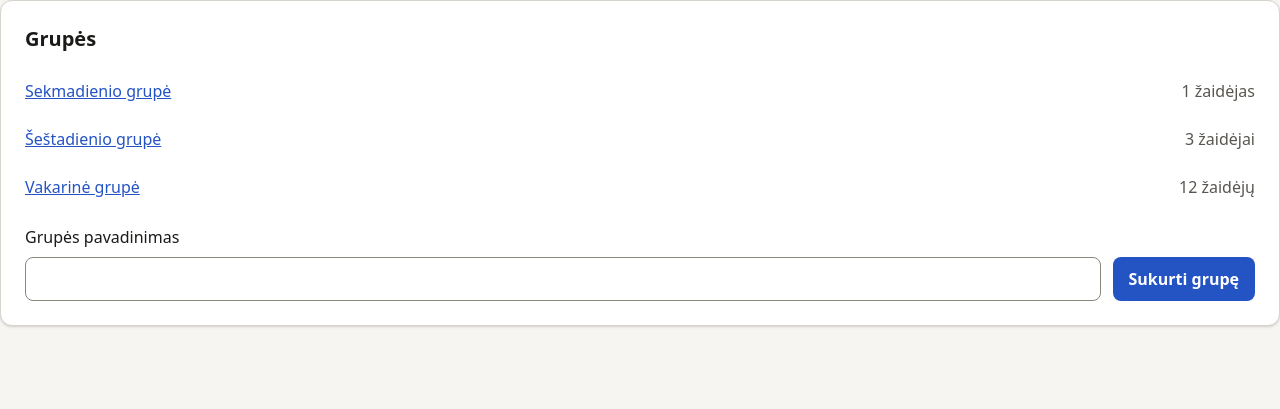
Test: GroupsSection › shows a refusal and keeps the typed name
Step 1. Type "Grupė 11" into the field labelled "Grupės pavadinimas" → (563, 279), box [25,257,1100,301]
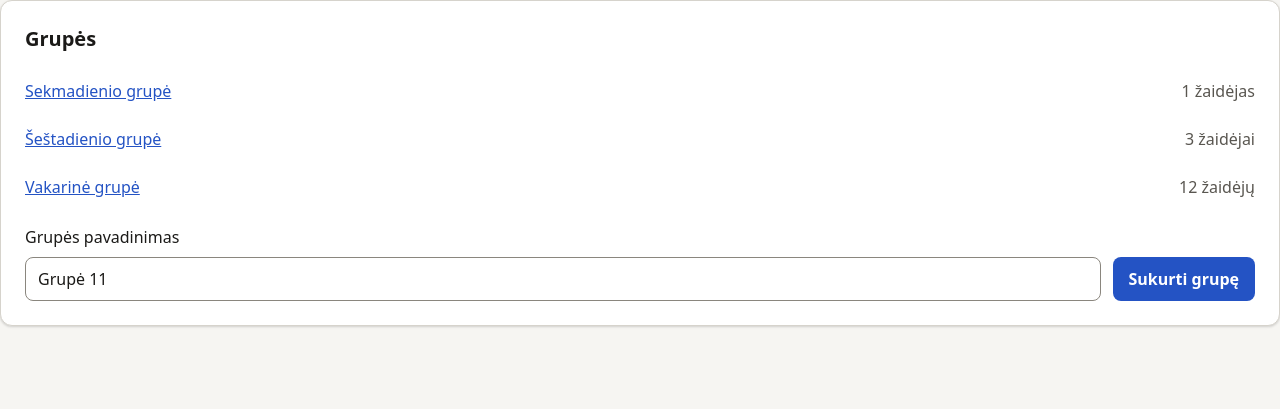
Step 2. Click the button "Sukurti grupę" → (1184, 279), box [1112,257,1255,301]
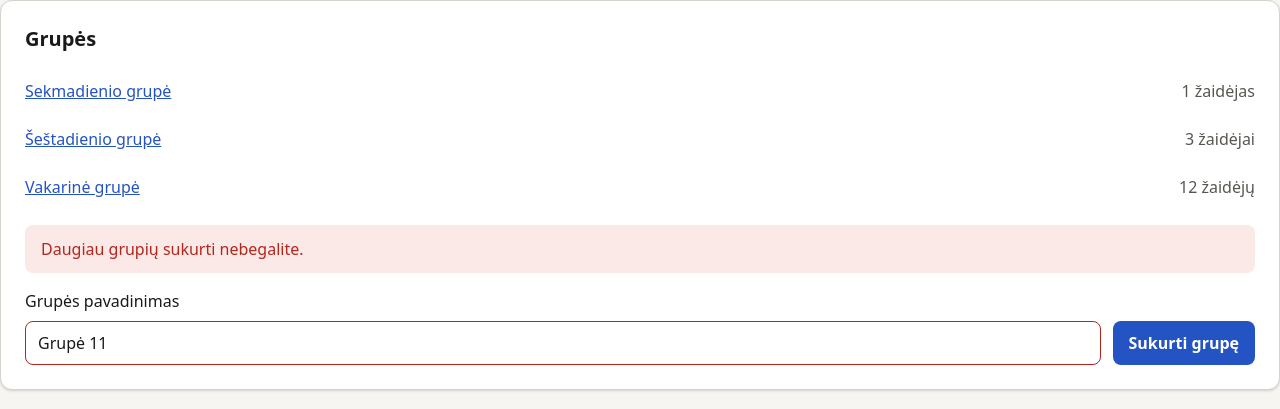
Expected: the message reads "Daugiau grupių sukurti nebegalite.", [41,238,304,260]
